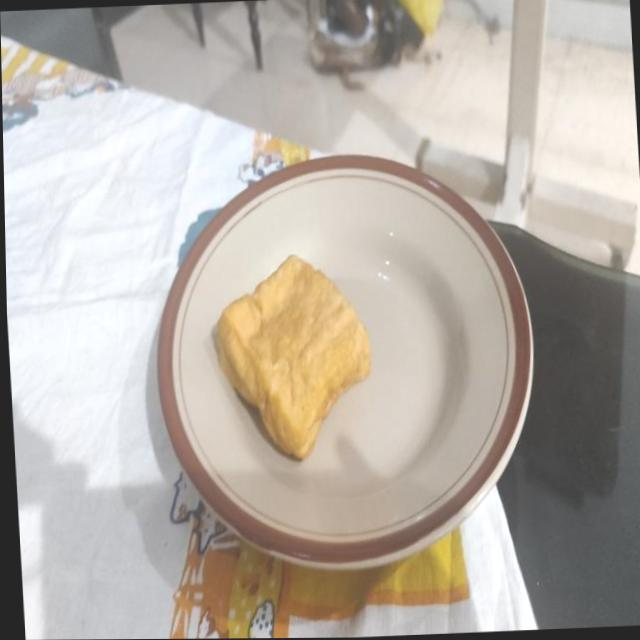tahu_goreng: (217, 255, 370, 460)
